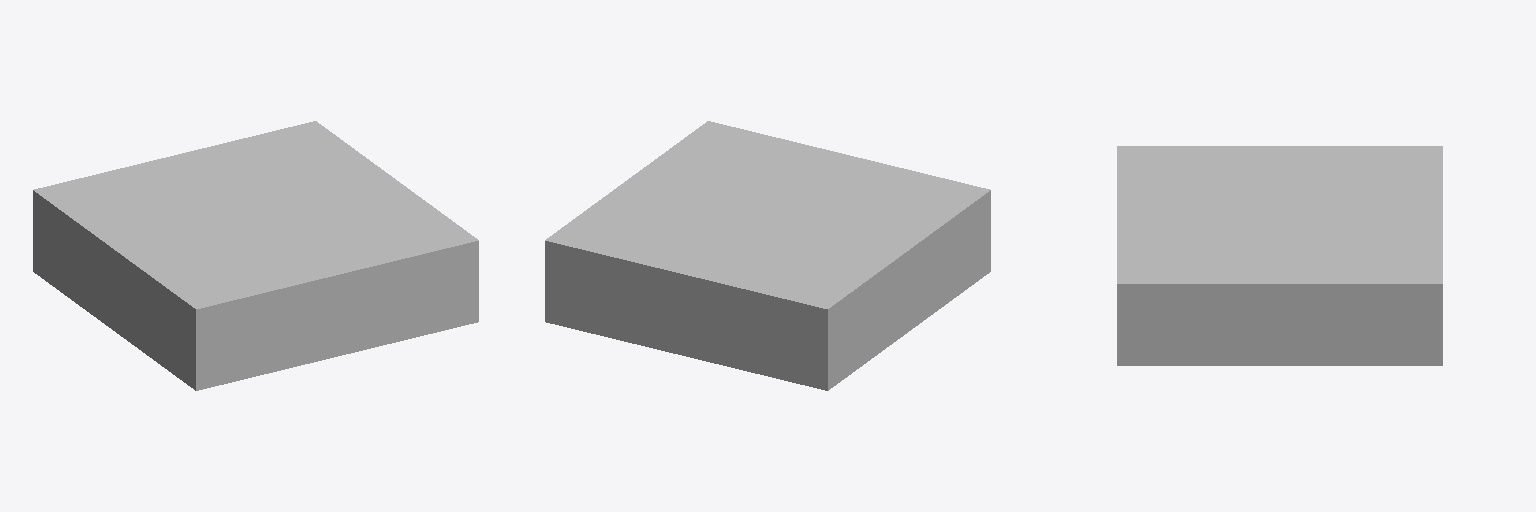
File: emptyRoom.obj
3 views of the same model, side by side, from view 1: azimuth 30°, elevation 25°; view 2: azimuth 150°, elevation 25°; view 3: azimuth 270°, elevation 25° (orthographic).
Visible parts, largest first — view 1: Plane; view 2: Plane; view 3: Plane.
Boxes of the visible parts, x1=… form: Plane: x1=33, y1=121, x2=478, y2=390; Plane: x1=545, y1=121, x2=990, y2=390; Plane: x1=1117, y1=146, x2=1442, y2=365.
Size of the model in its own units: 12.79 by 3.52 by 12.79.